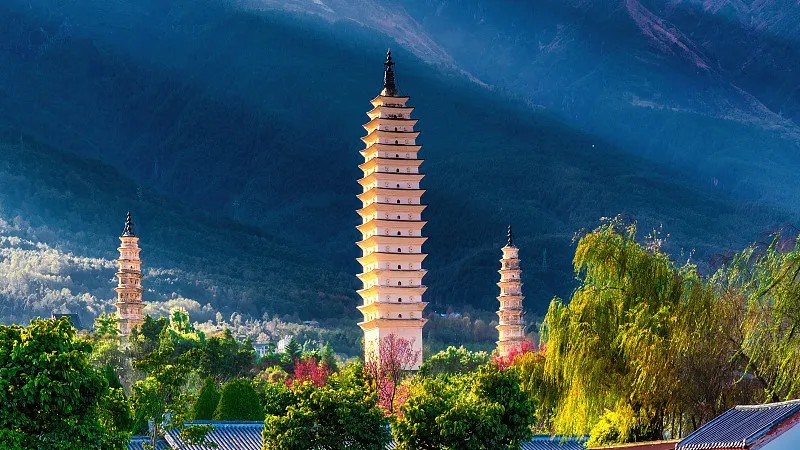ThreePagoda: (356, 46, 430, 371)
